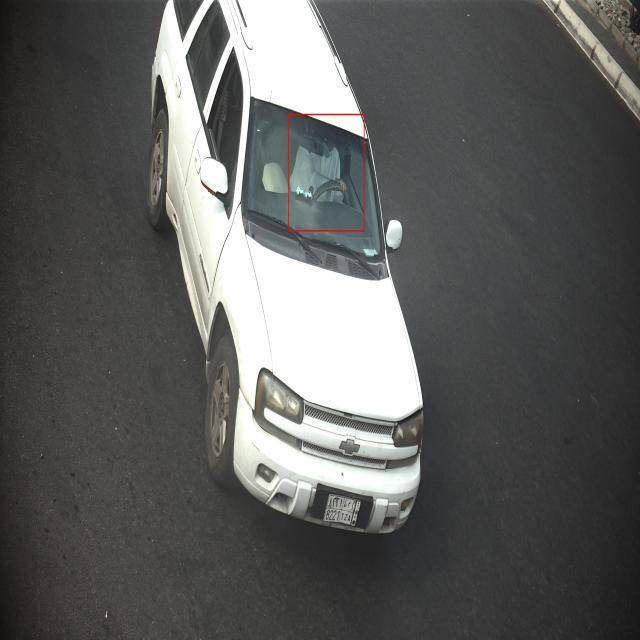windshield: (238, 89, 391, 286)
